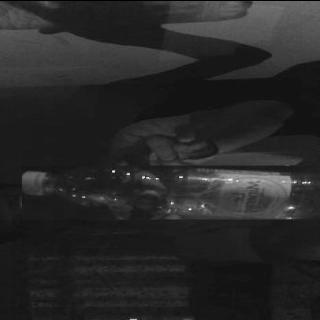plastic_bottles: (22, 164, 320, 218)
